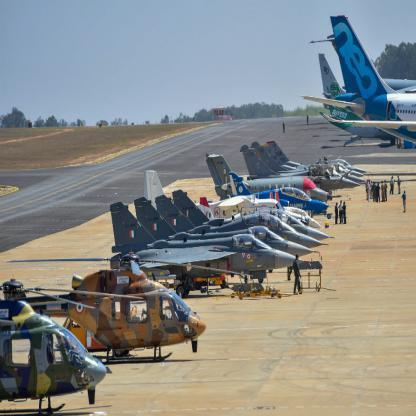CIV_Plane: (325, 9, 415, 148)
